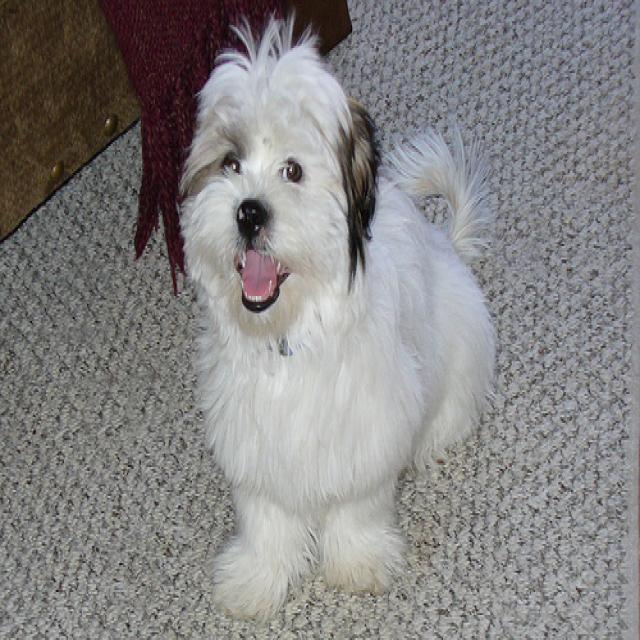dog-havanese: (169, 4, 507, 636)
